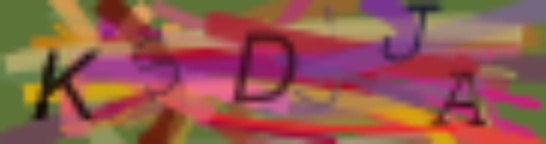A: (428, 65, 494, 130)
D: (229, 30, 300, 106)
J: (378, 3, 447, 65)
K: (30, 43, 106, 128)
S: (125, 24, 181, 104)
